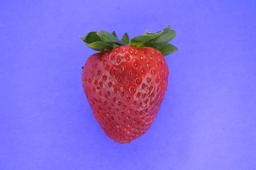red strawberry: (79, 31, 170, 145)
